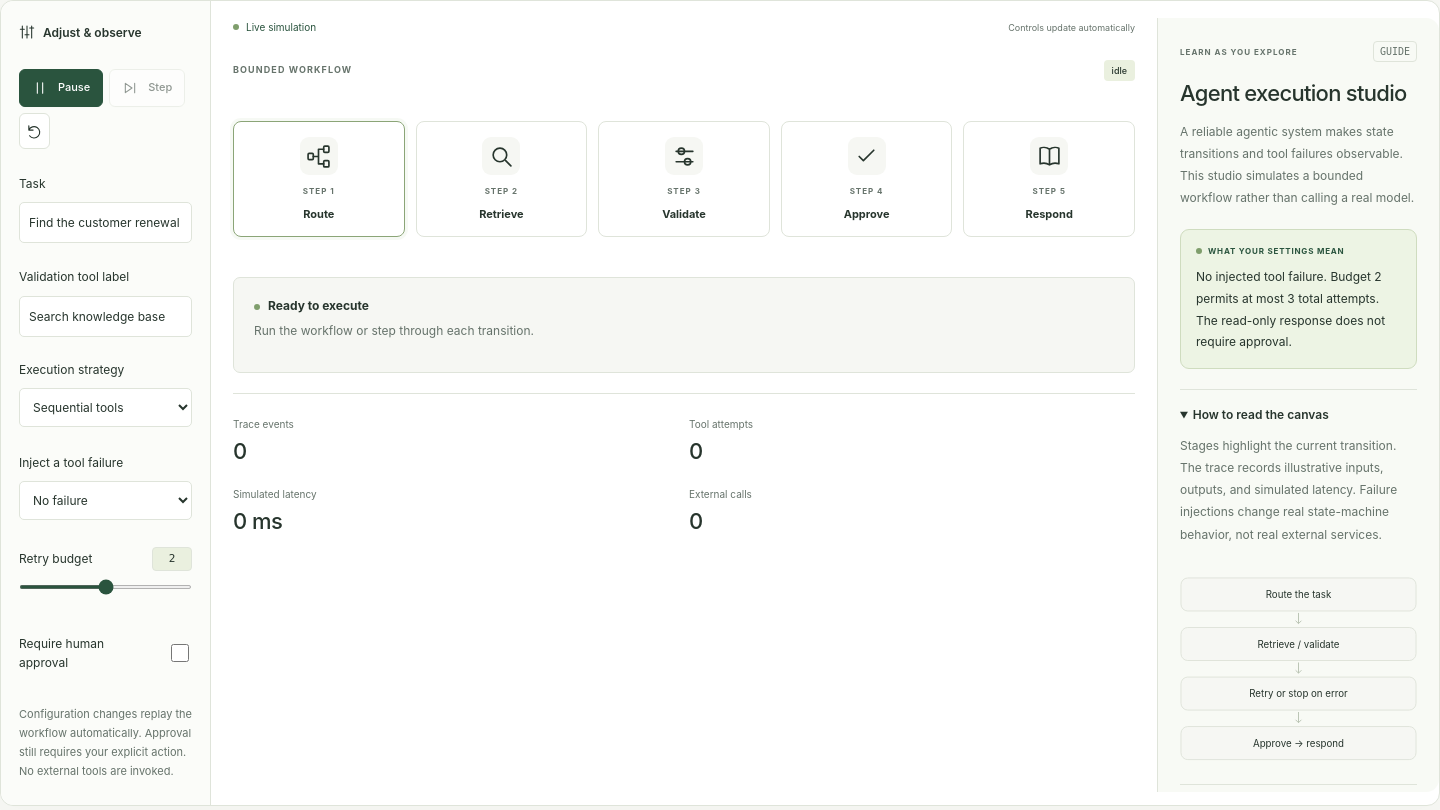
automatic, reactive, bounded playback › never treats autoplay as approval and resumes after explicit approval
Step 1. Click the checkbox labelled "Require human approval" → coordinates (180, 653), box [171,644,189,662]
Wait 13000 ms
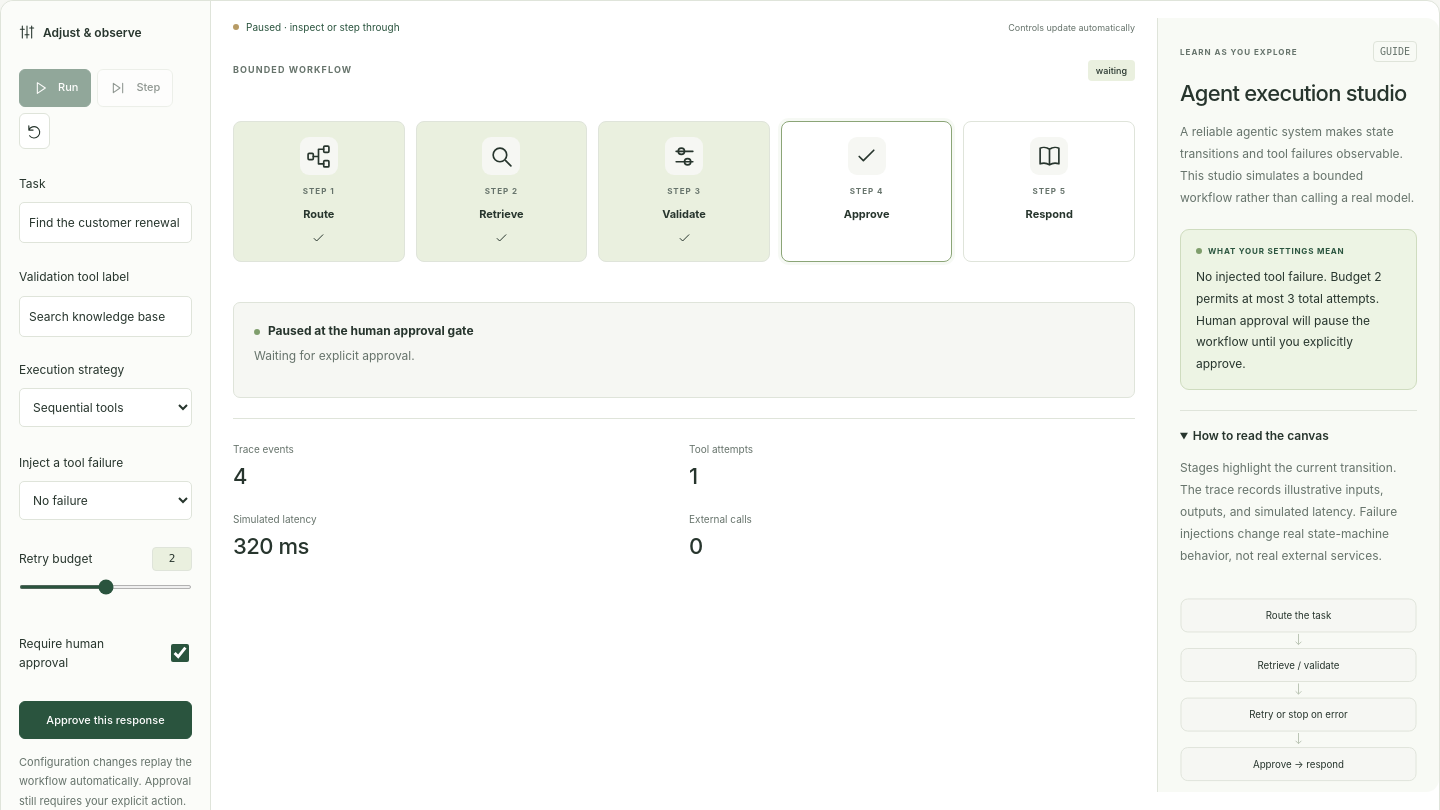
Expected: the text "Paused at the human approval gate" is shown, [268,323,474,338]
Step 2. Click the button "Approve this response" → coordinates (106, 720), box [19,701,192,739]
Wait 500 ms
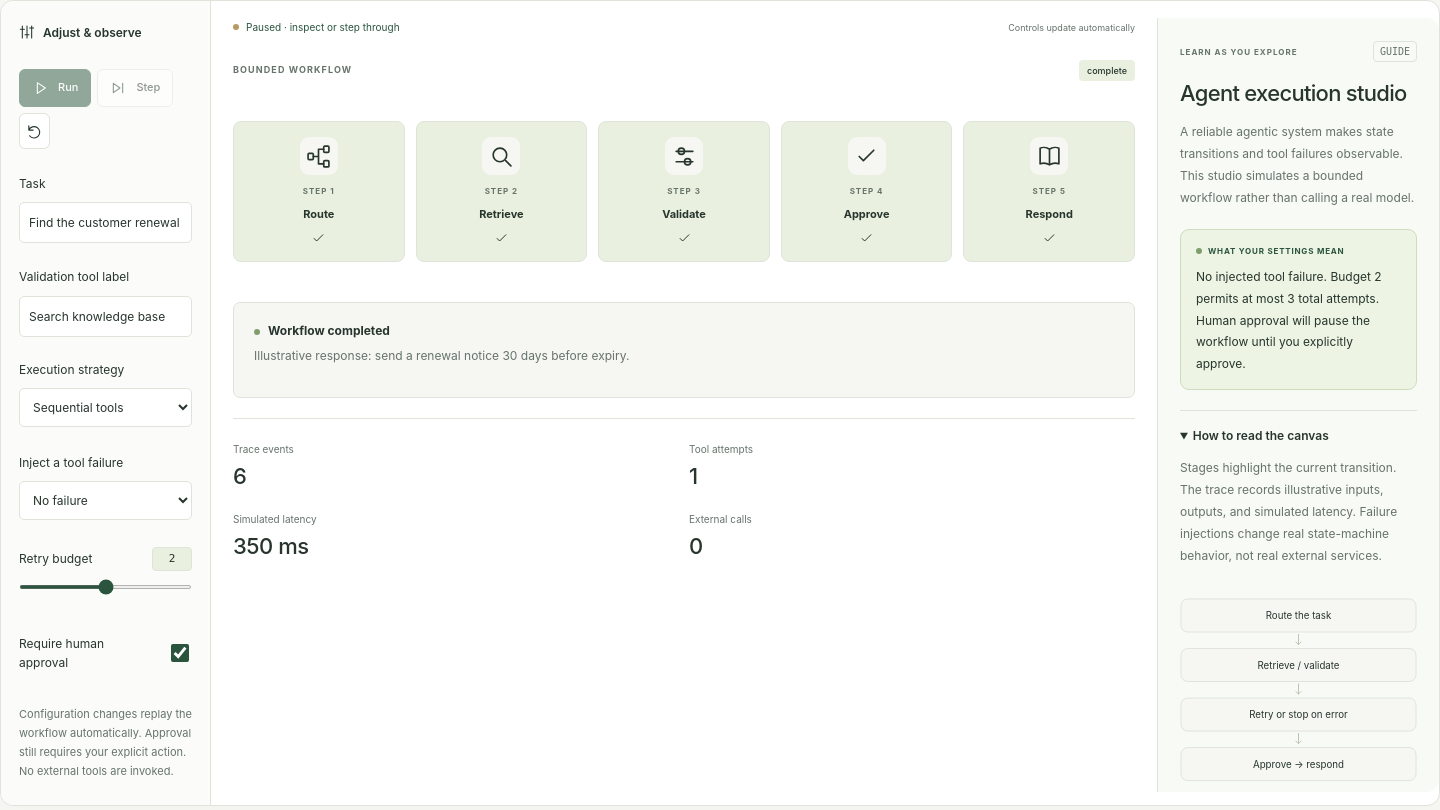
Expected: the text "Workflow completed" is shown, [268,323,390,338]
